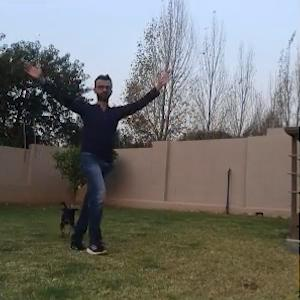takeoff: (7, 76, 134, 252)
